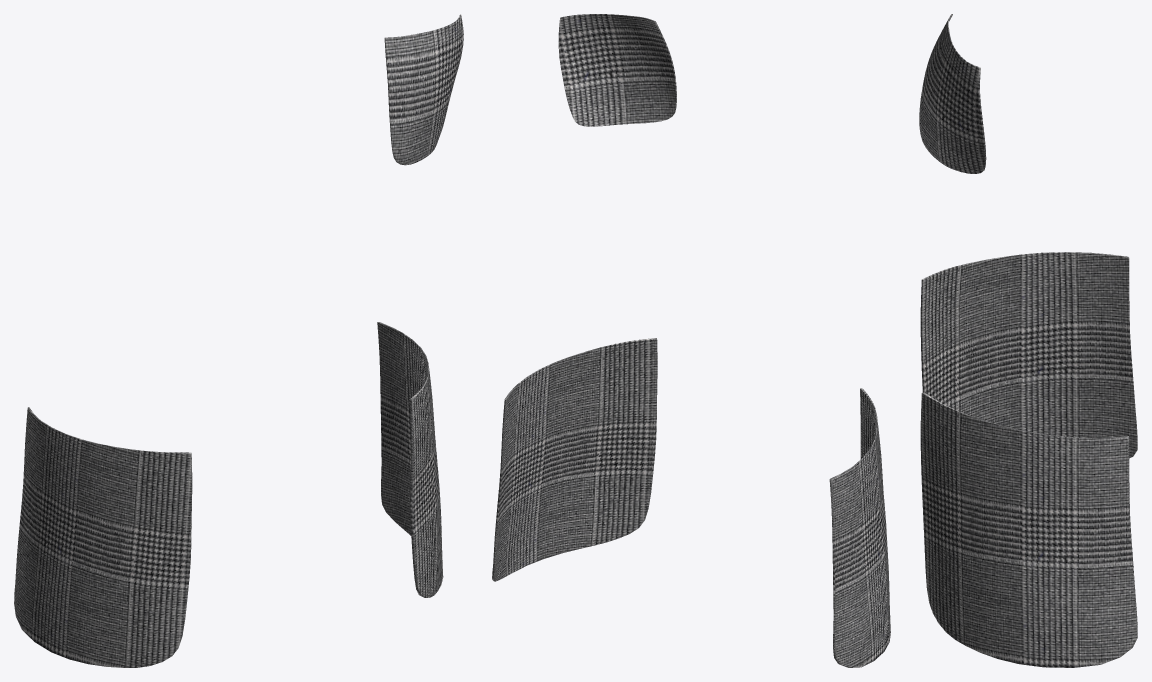
File: Patch_Pockets.glb
The picture shows the model from 3 angles, left to right: view 1: azimuth 30°, elevation 25°; view 2: azimuth 150°, elevation 25°; view 3: azimuth 270°, elevation 25°; orthographic projection. The views are drawn at different scales.
Parts seen in each view (by area): view 1: Patch_Pockets; view 2: Patch_Pockets; view 3: Patch_Pockets.
Part boxes in pixels (box(x1,y1,x2,y2)): Patch_Pockets: box(14, 14, 463, 667); Patch_Pockets: box(492, 14, 890, 667); Patch_Pockets: box(919, 14, 1137, 667).
Bounding box in the file's own units: 0.0486 × 0.0684 × 0.0224.
Materials: 1 (1 with a texture image).
